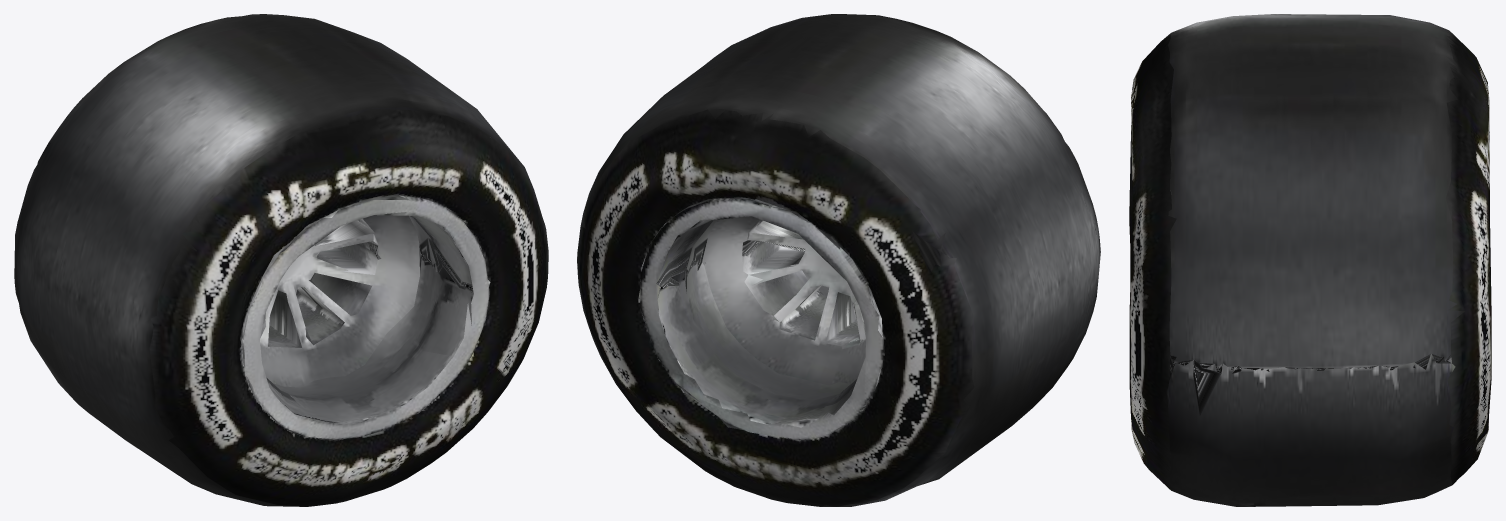
The model's file is rueda_duro_bajo.glb.
3 renders of one model, left to right at view 1: azimuth 30°, elevation 25°; view 2: azimuth 150°, elevation 25°; view 3: azimuth 270°, elevation 25°, orthographic. The views are drawn at different scales.
Parts seen in each view (by area): view 1: tripo_part_4; view 2: tripo_part_4; view 3: tripo_part_4.
Part boxes in pixels (left/top/right/bottom): tripo_part_4: left=14, top=14, right=548, bottom=506; tripo_part_4: left=577, top=14, right=1100, bottom=506; tripo_part_4: left=1129, top=14, right=1491, bottom=506.
Bounding box in the file's own units: 0.7137 × 0.6561 × 0.493.
1 material, 1 textured.
